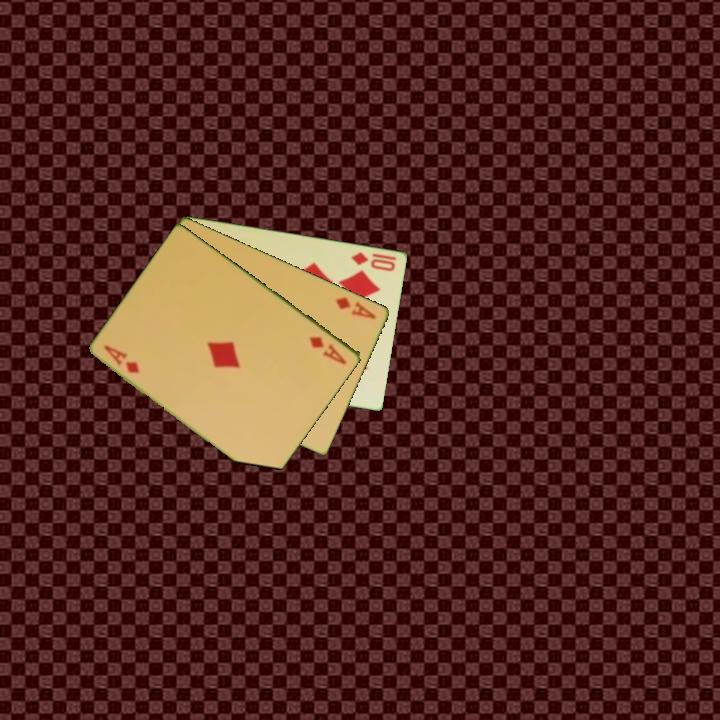10d: (348, 248, 398, 274)
Ad: (306, 333, 350, 368), (100, 341, 143, 376), (332, 293, 379, 322)
